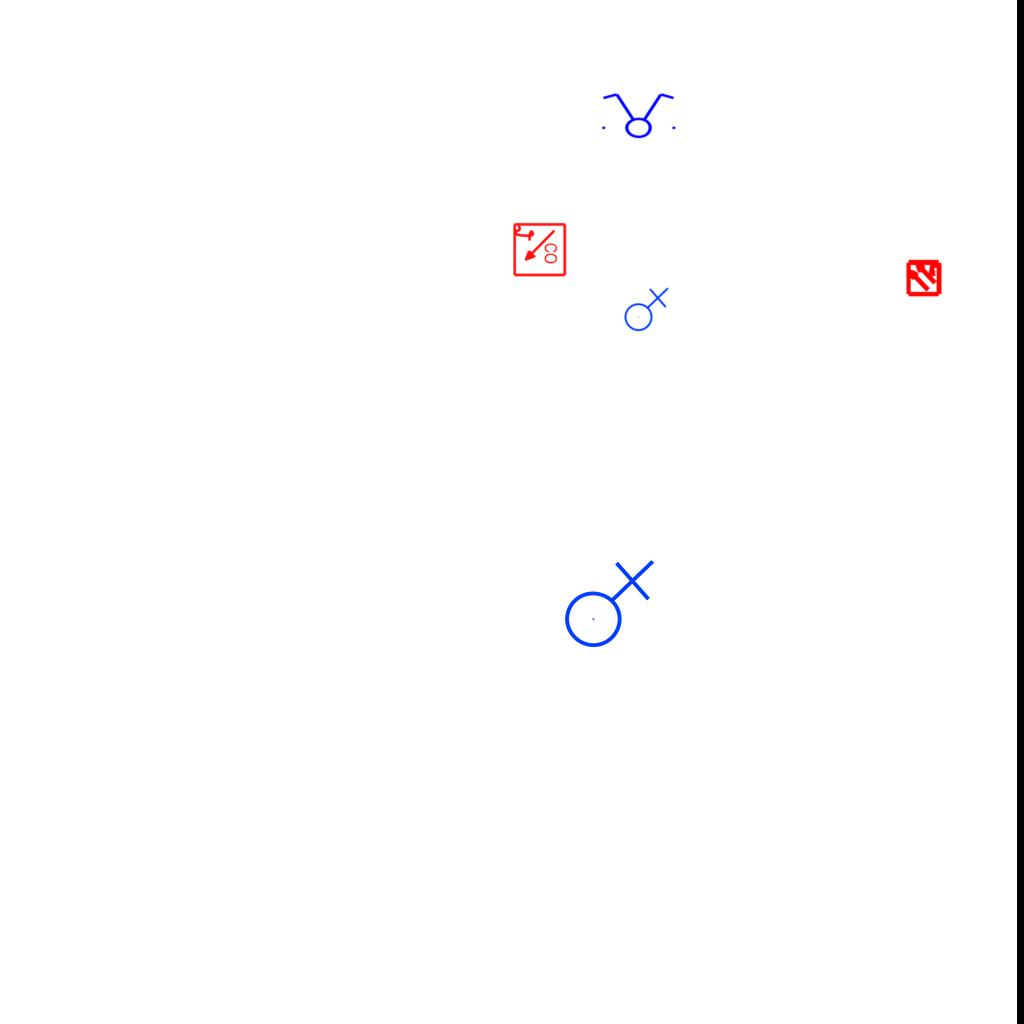Elektroanschluss_allgemein_230V_Geraeteanschlussdose_230V: (556, 555, 655, 649), (620, 285, 669, 332)
OT_Multisensormelder_(Kombination_RMO_WMD): (896, 249, 952, 305)
ROA_Rauchmelder_optisch_mit_Signalgeber_(Sockelsirene): (511, 222, 567, 278)
Serienschalter: (596, 91, 680, 139)
